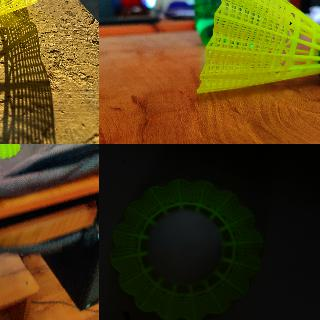shuttlecock: (109, 179, 263, 319), (195, 0, 319, 93), (0, 0, 47, 35)
